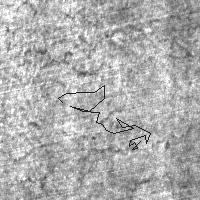crazing: (13, 108, 136, 190), (18, 20, 154, 77), (58, 85, 150, 149)
